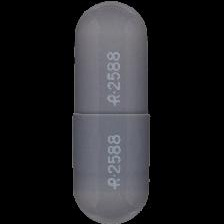63739-283: (0, 0, 224, 224)
